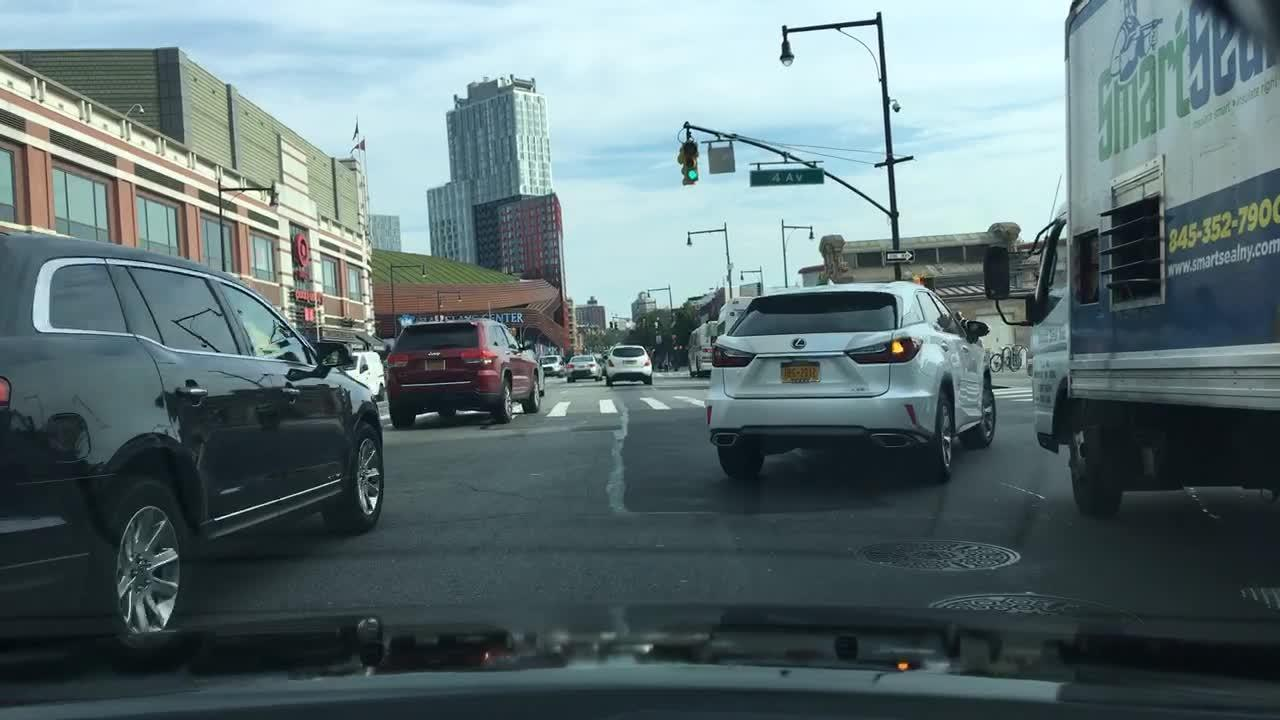jeep: (422, 349, 452, 362)
lexus: (781, 333, 818, 356)
